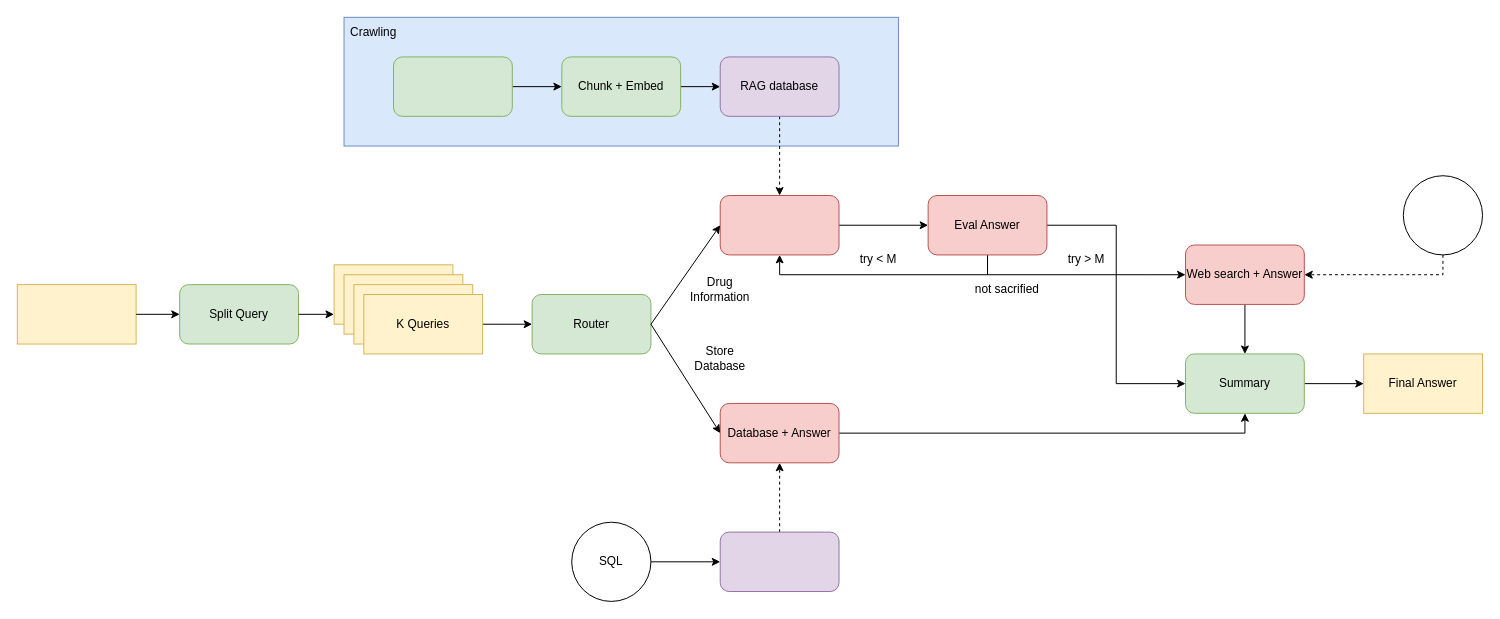
Image size: 1500x619. Some labels were removed from this diagram. The shapes that lost their labels are listed below. From the top down, each one's centre as x and y in pixels, then its label:
At [452,86]: "Crawl web".
At [779,225]: "RAG + Answer".
At [1442,215]: "Internet".
At [76,314]: "User Query".
At [779,561]: "Database tools".
